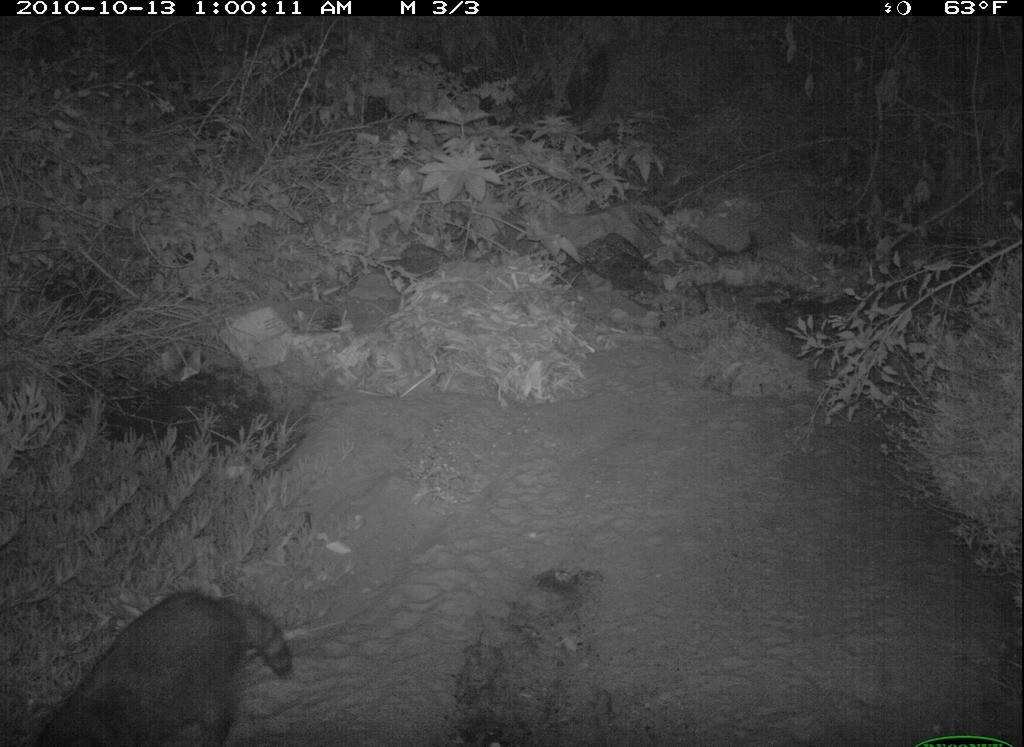raccoon: (34, 557, 297, 745)
